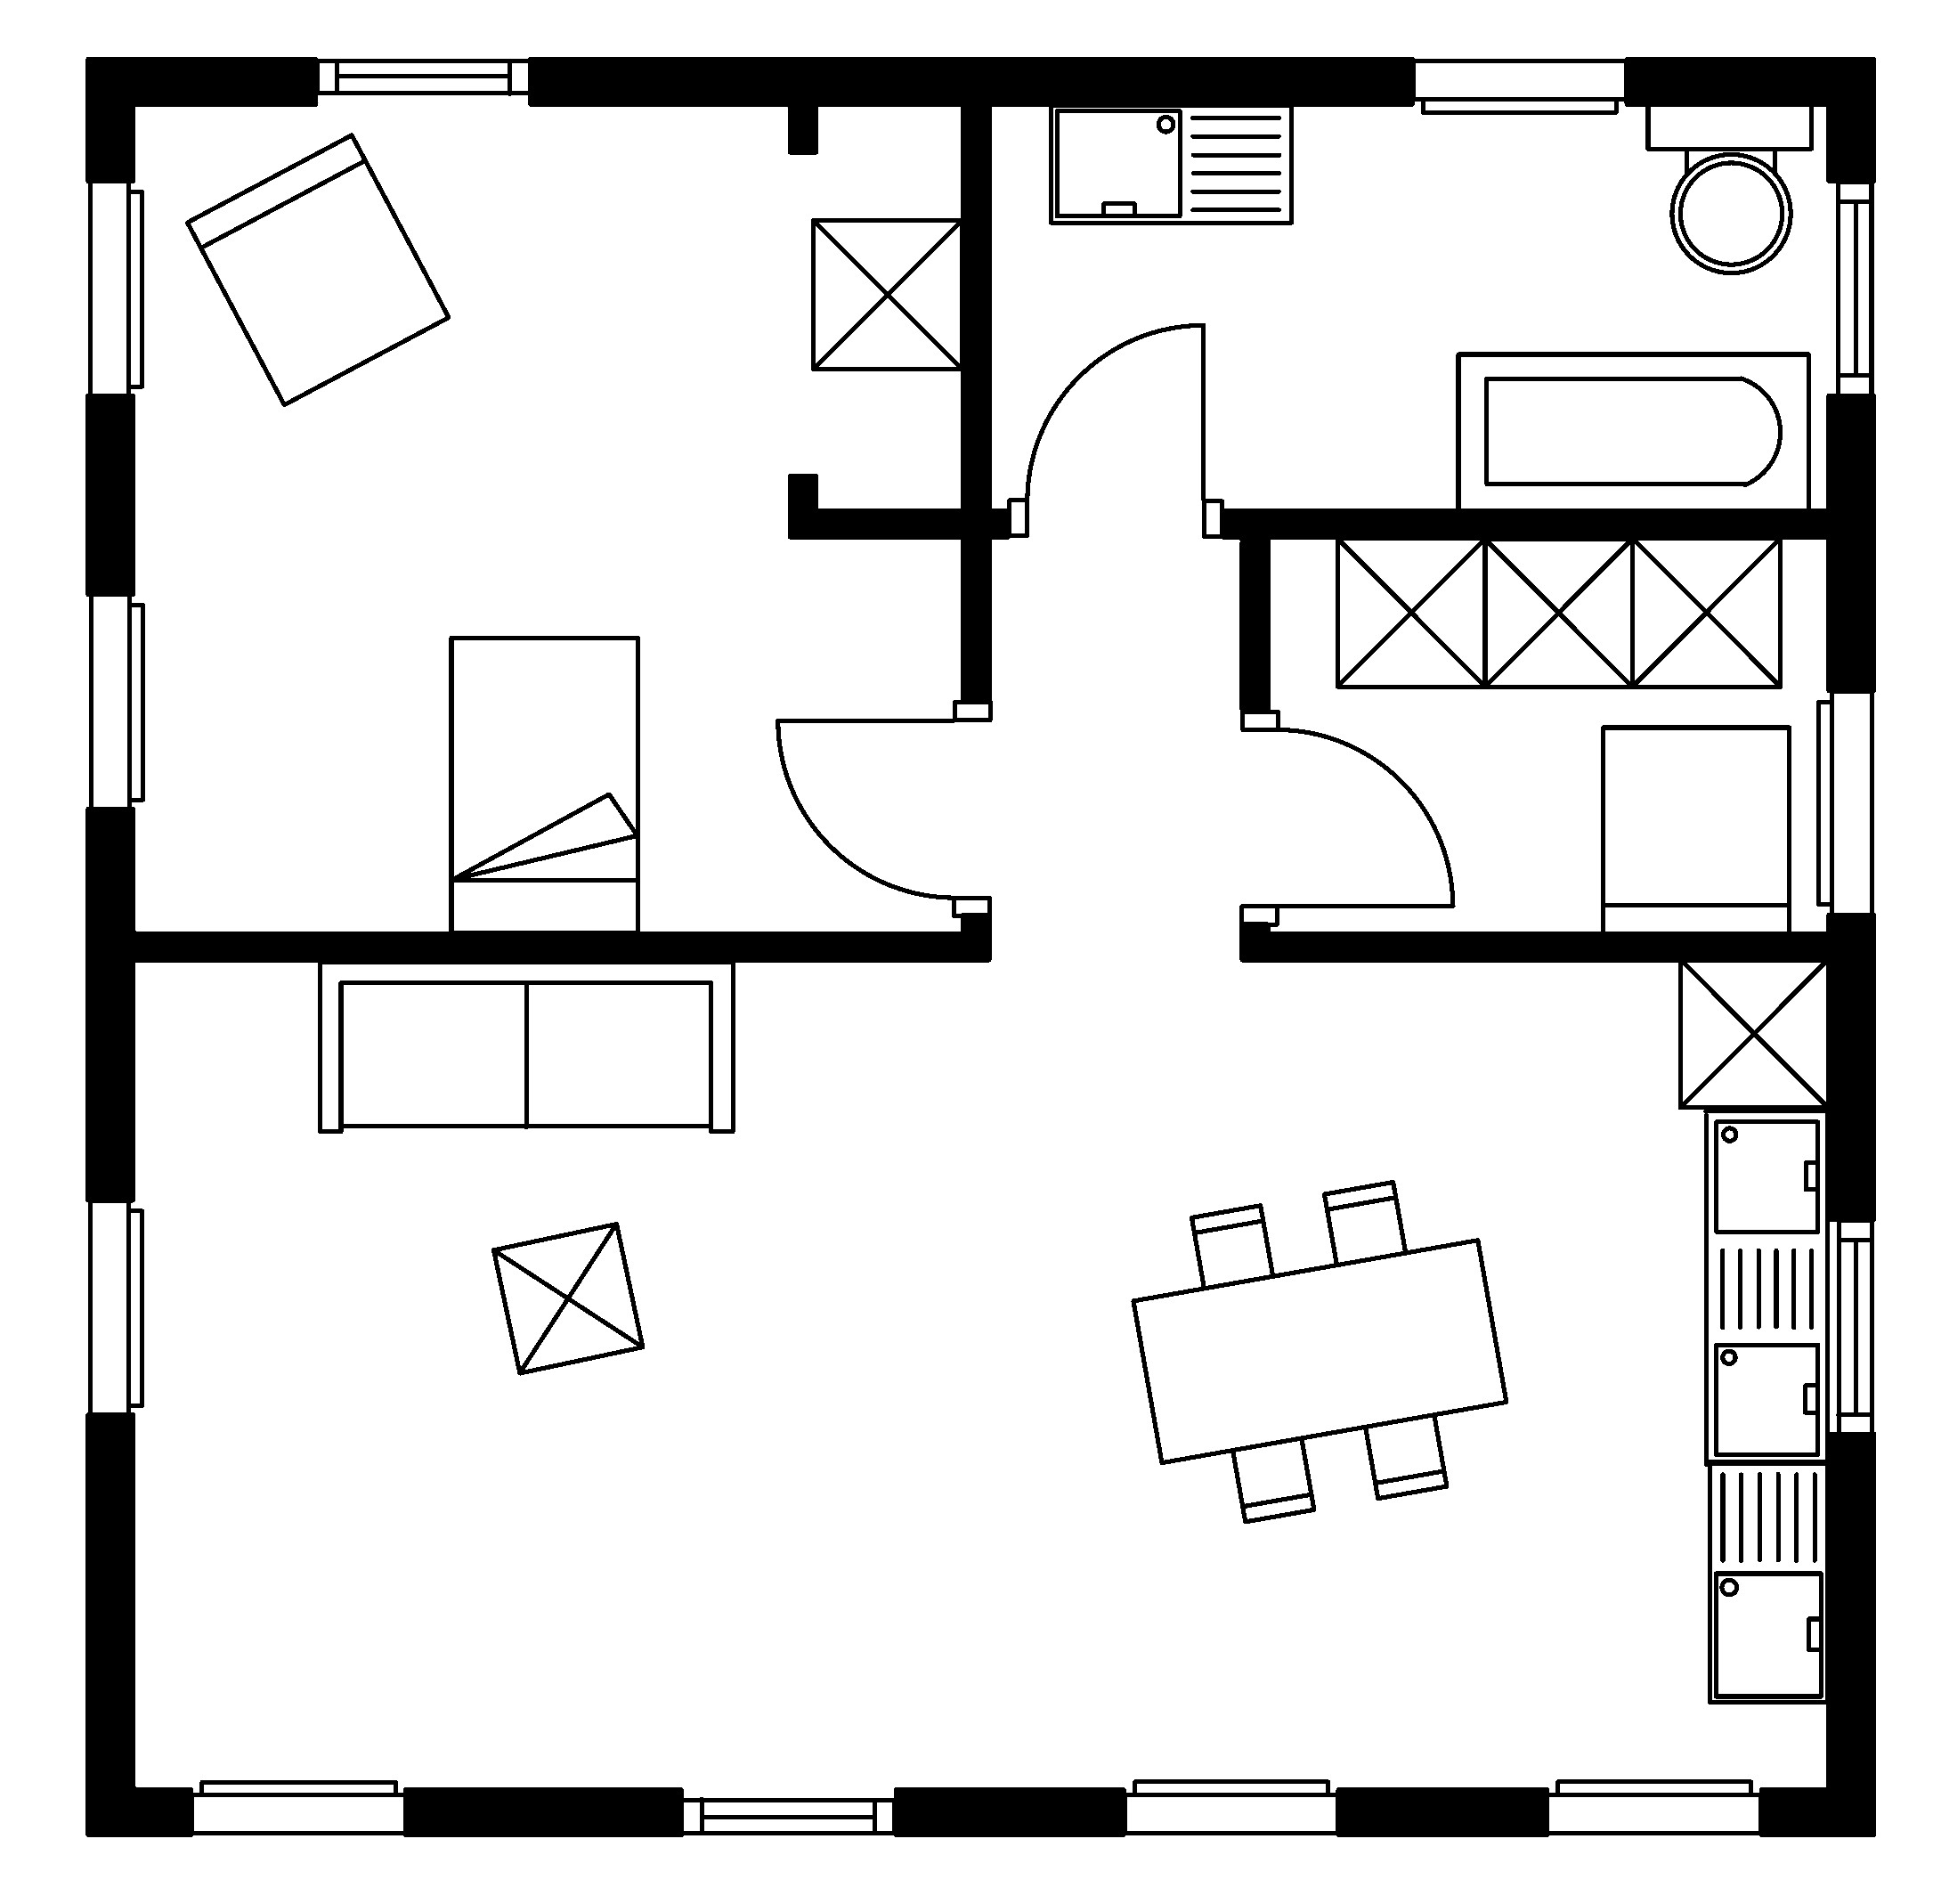bed: (446, 635, 641, 935)
coffee_table: (809, 216, 966, 371), (488, 1221, 645, 1376), (1480, 534, 1635, 689), (1628, 534, 1783, 689), (1333, 534, 1489, 689), (1675, 955, 1830, 1111)
dining_table: (1129, 1179, 1509, 1524)
large_sink: (1644, 101, 1814, 274)
large_sofa: (315, 959, 736, 1135)
sink: (1046, 101, 1295, 225), (1706, 1458, 1830, 1705)
small_sofa: (183, 131, 451, 408), (1598, 724, 1792, 936)
tub: (1454, 350, 1811, 513)
twin_sink: (1701, 1107, 1830, 1468)
